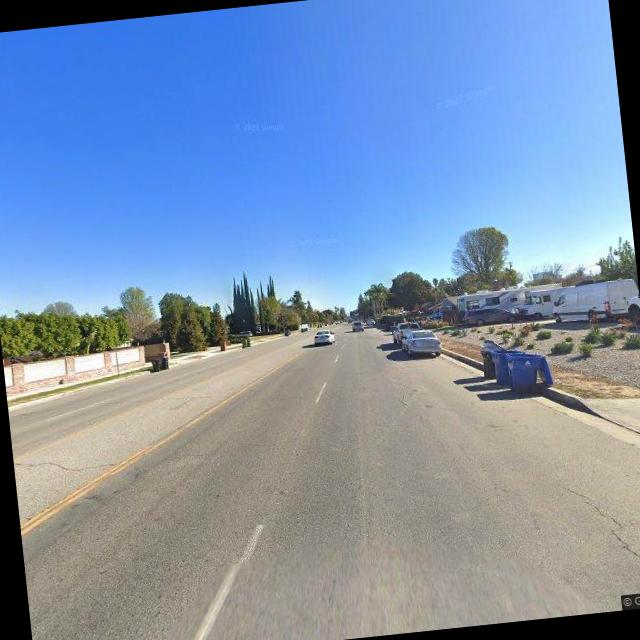crack: (558, 471, 640, 603), (12, 444, 120, 486)
